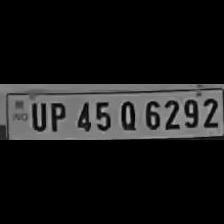2: (162, 96, 180, 130), (200, 94, 218, 128)
4: (70, 98, 92, 132)
5: (92, 98, 112, 132)
6: (140, 98, 160, 130)
9: (180, 97, 198, 129)
P: (46, 100, 68, 132)
Q: (115, 97, 139, 131)
U: (27, 100, 47, 132)
